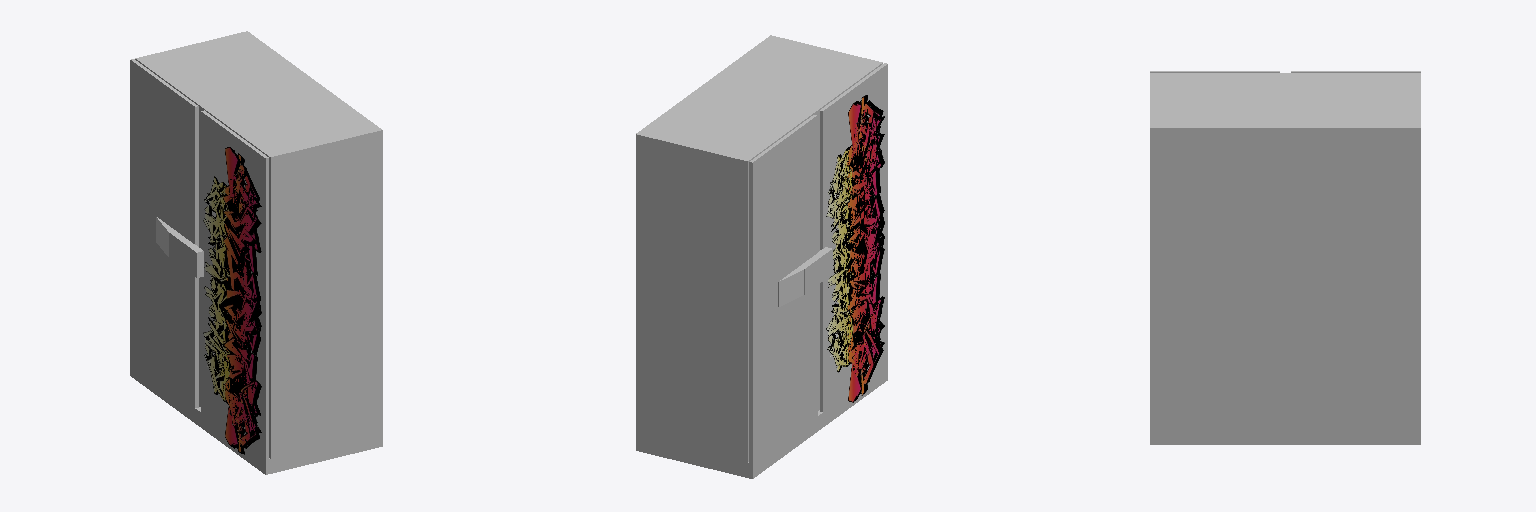
3 renders of one model, left to right at view 1: azimuth 30°, elevation 25°; view 2: azimuth 150°, elevation 25°; view 3: azimuth 270°, elevation 25°, orthographic.
Visible parts, largest first — view 1: cube; view 2: cube; view 3: cube.
Boxes of the visible parts, x1,y1,x2,y2 form: cube: [130, 31, 382, 474]; cube: [636, 35, 887, 478]; cube: [1150, 71, 1420, 444].
Bounding box in the file's own units: 0.3969 × 0.9688 × 0.7812.
4 materials, 1 textured.